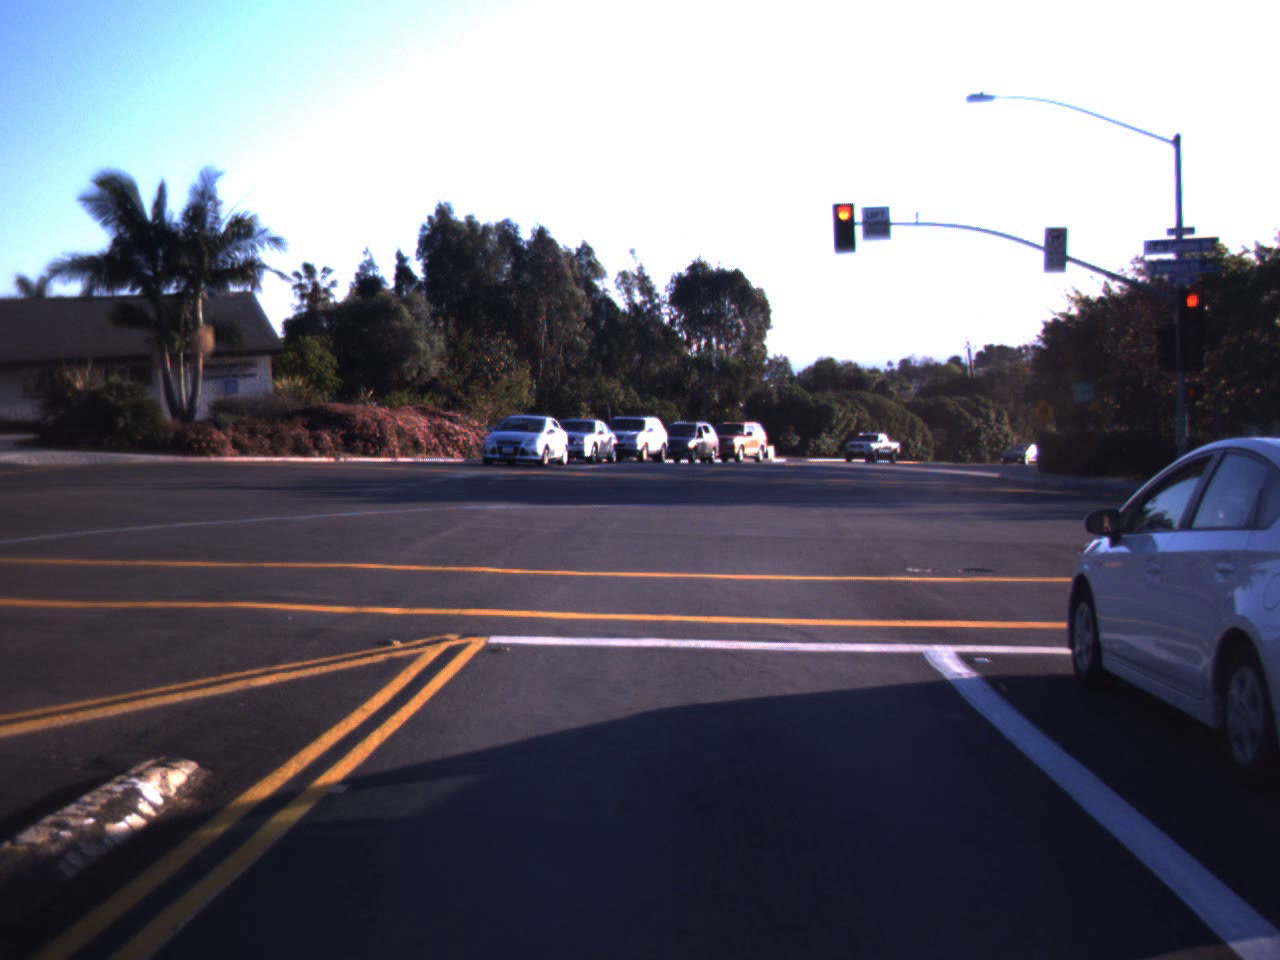stop: (825, 199, 864, 262), (1179, 291, 1206, 336)
